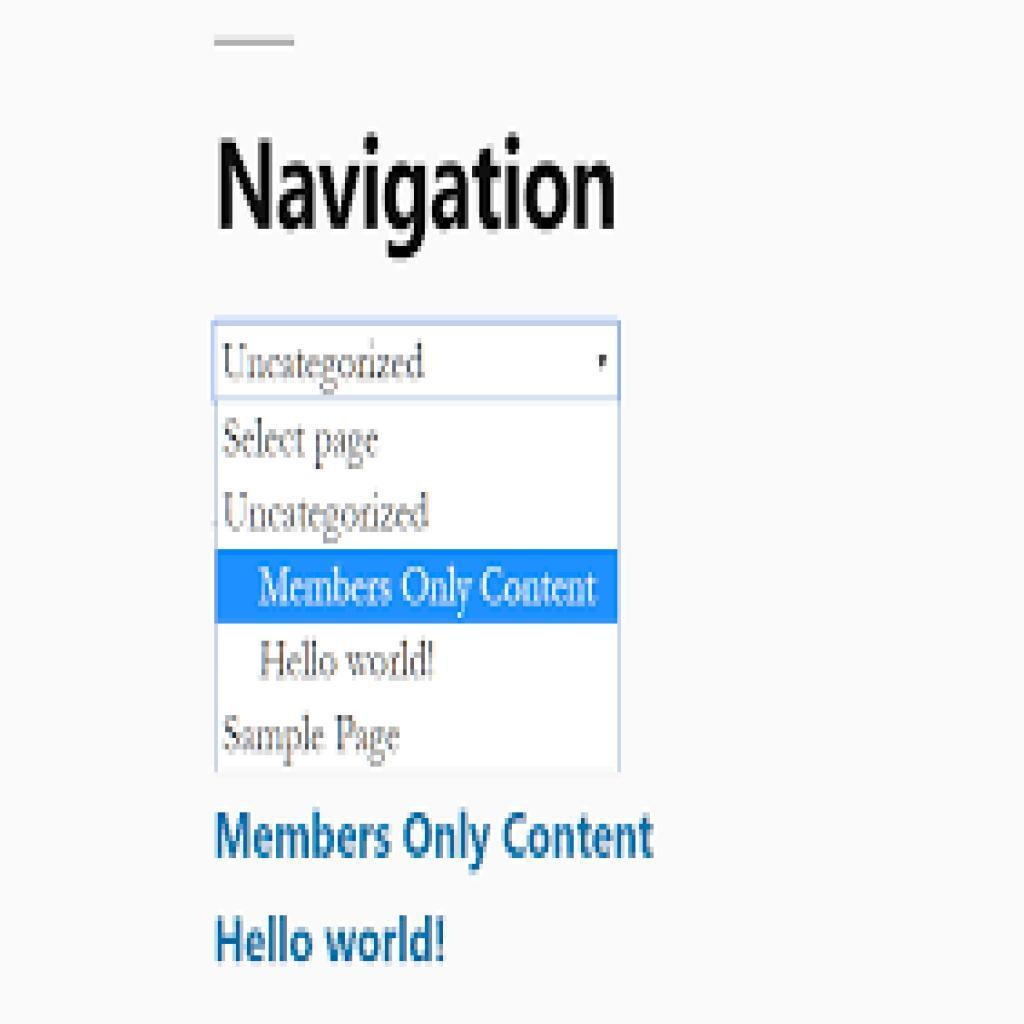dropdown: (216, 323, 620, 400)
